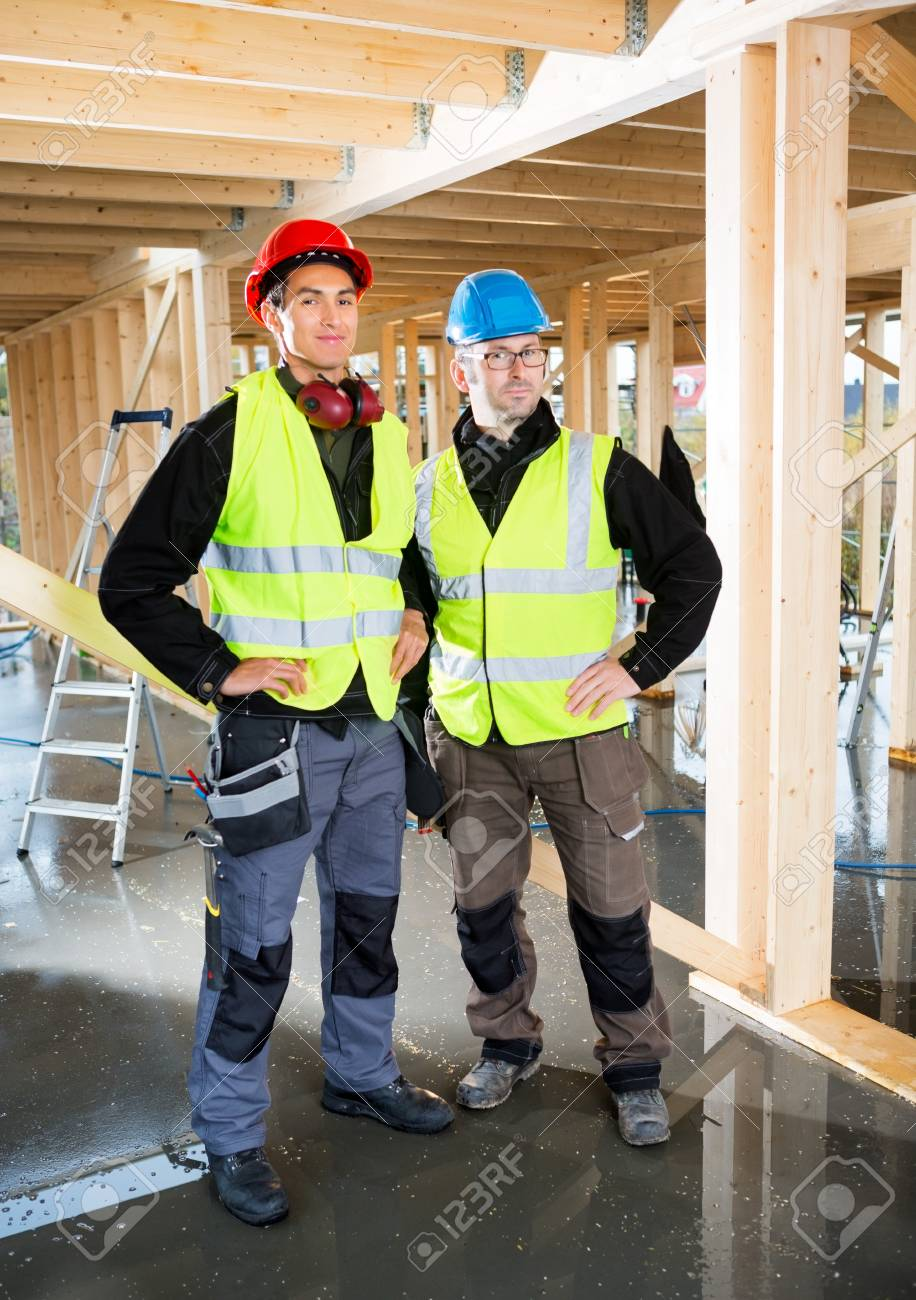Hard Hat: (240, 221, 376, 286), (437, 268, 555, 337)
High Viz: (231, 369, 409, 701), (416, 452, 616, 733)
